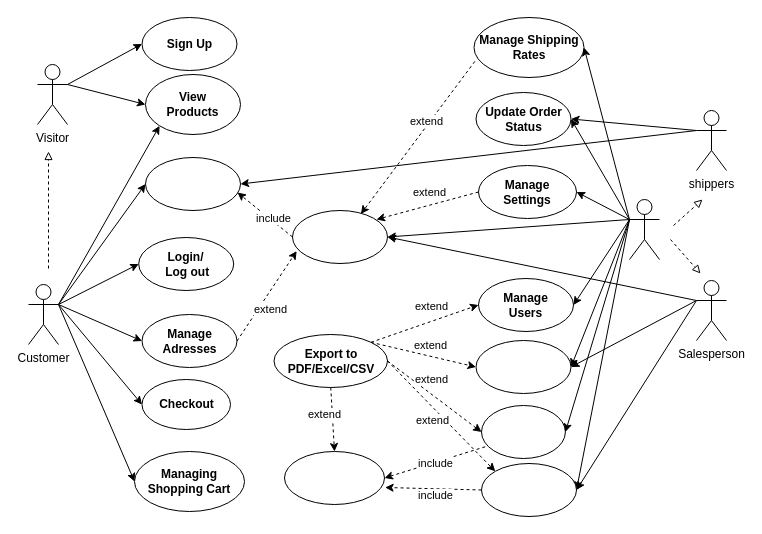
Some shapes in this 762 by 534 pixel diagram are drawn without their labels. Each missing label, with the centre of its shape:
Admin: [644,229]
Manage Brands: [522,431]
Manage Categories: [528,489]
Manage customers: [523,367]
Manage Orders: [340,237]
Manage Products: [334,477]
View Orders: [192,183]
